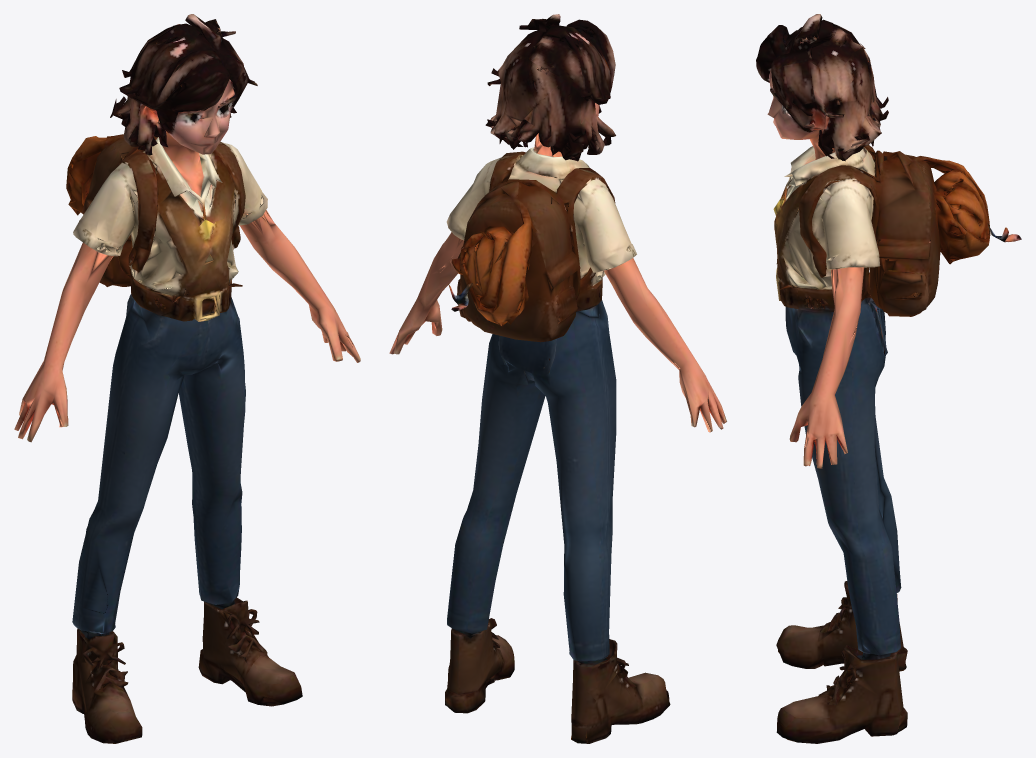
File: player_simple_opt.glb
3 views of the same model, side by side, from view 1: azimuth 30°, elevation 25°; view 2: azimuth 150°, elevation 25°; view 3: azimuth 270°, elevation 25° (orthographic). The views are drawn at different scales.
Visible parts, largest first — view 1: playerBody; view 2: playerBody; view 3: playerBody.
Part boxes in pixels (x1,y1,x2,y2): playerBody: (14, 14, 360, 743); playerBody: (389, 14, 726, 743); playerBody: (756, 14, 1021, 743).
Bounding box in the file's own units: 0.8625 × 1.7 × 0.5971.
1 material, 1 textured.
